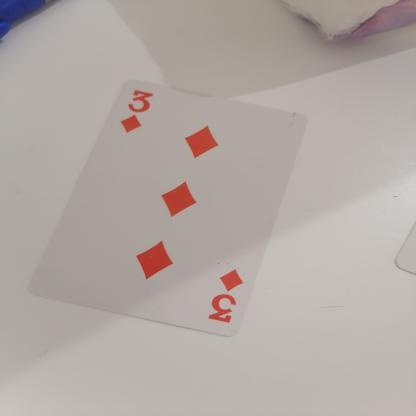3D: (198, 268, 260, 332), (114, 83, 164, 147)
